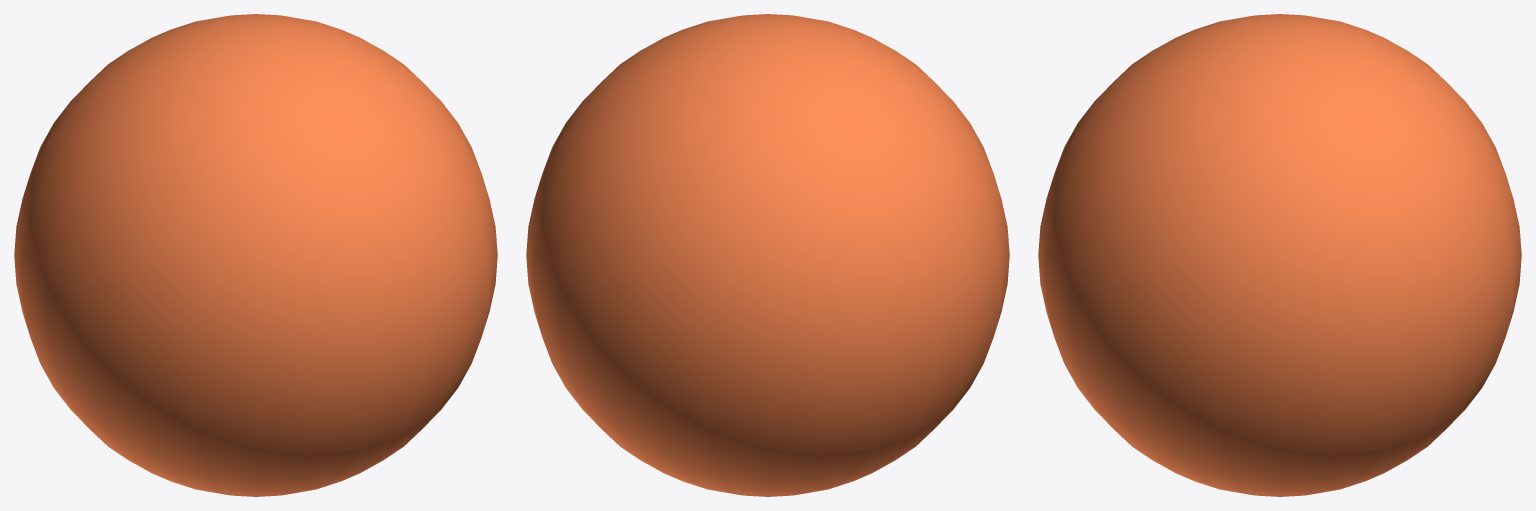
The model's file is bubble.glb.
The picture shows the model from 3 angles, left to right: view 1: azimuth 30°, elevation 25°; view 2: azimuth 150°, elevation 25°; view 3: azimuth 270°, elevation 25°; orthographic projection.
Parts seen in each view (by area): view 1: Geom; view 2: Geom; view 3: Geom.
Boxes of the visible parts, x1,y1,x2,y2 form: Geom: [14, 14, 497, 496]; Geom: [526, 14, 1009, 496]; Geom: [1038, 14, 1521, 496].
Bounding box in the file's own units: 0.2 × 0.2 × 0.2.
